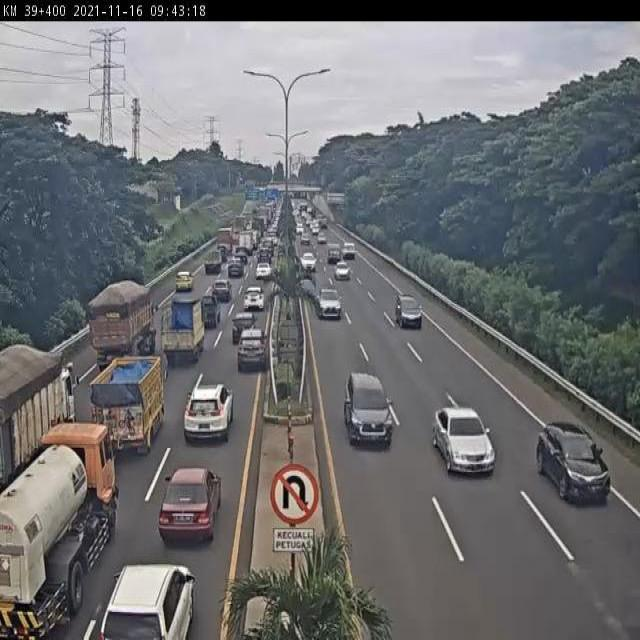car: (97, 561, 196, 640), (535, 420, 613, 504), (157, 464, 222, 547), (432, 404, 496, 473), (343, 371, 395, 449), (182, 383, 232, 444), (236, 326, 268, 374), (393, 291, 425, 329), (315, 286, 343, 322), (230, 310, 257, 346), (196, 294, 220, 330), (242, 286, 265, 314), (210, 277, 232, 304), (174, 269, 194, 295), (226, 255, 244, 280), (301, 250, 318, 274), (333, 259, 351, 281), (256, 260, 272, 281)
small truck: (92, 352, 166, 459), (159, 296, 204, 364), (203, 247, 224, 272)
truck-m-: (0, 421, 119, 640), (0, 343, 75, 481), (92, 282, 154, 374)
